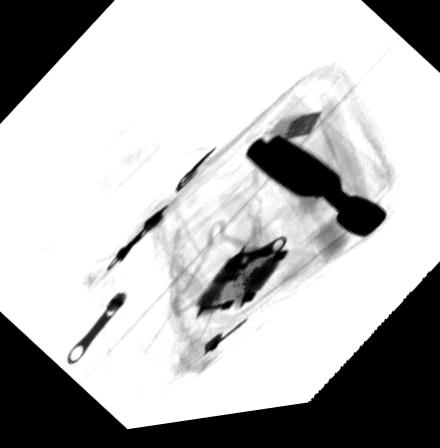Pliers: (246, 140, 389, 251)
